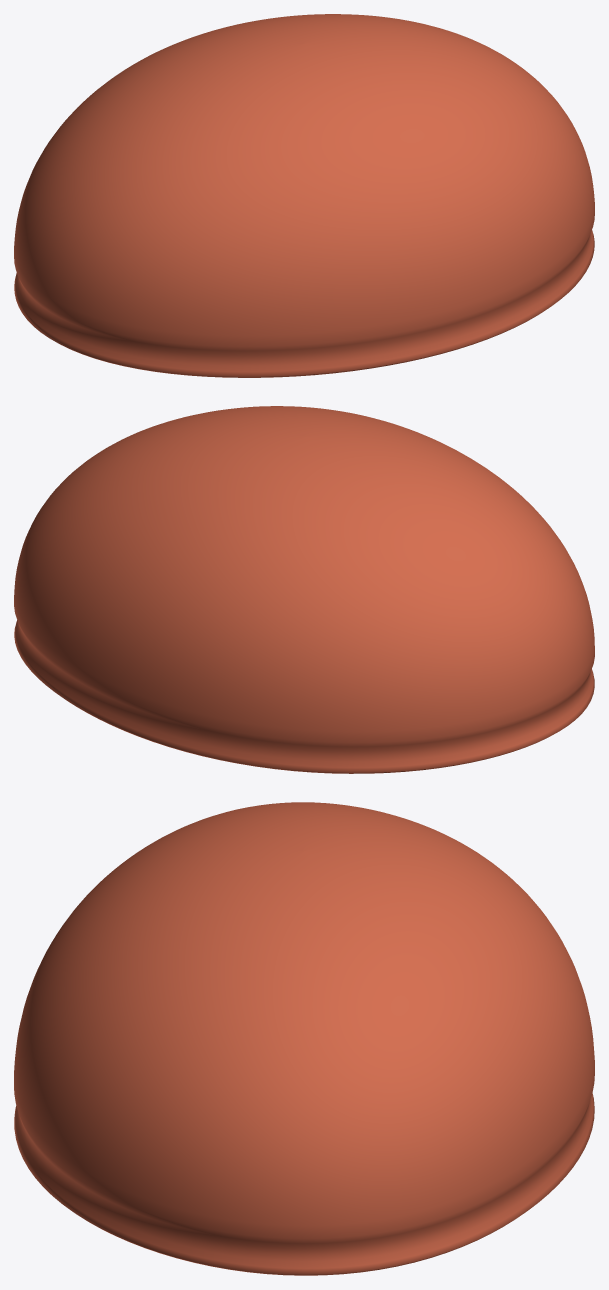
Rendered from lehsunia.glb.
3 views of the same model, one above another, from view 1: azimuth 30°, elevation 25°; view 2: azimuth 150°, elevation 25°; view 3: azimuth 270°, elevation 25° (orthographic). The views are drawn at different scales.
Visible parts, largest first — view 1: stone; view 2: stone; view 3: stone.
Part boxes in pixels (x1,y1,x2,y2): stone: (14, 14, 594, 377); stone: (14, 406, 594, 773); stone: (14, 802, 594, 1275).
Size of the model in its own units: 1.01 by 0.448 by 0.8008.
